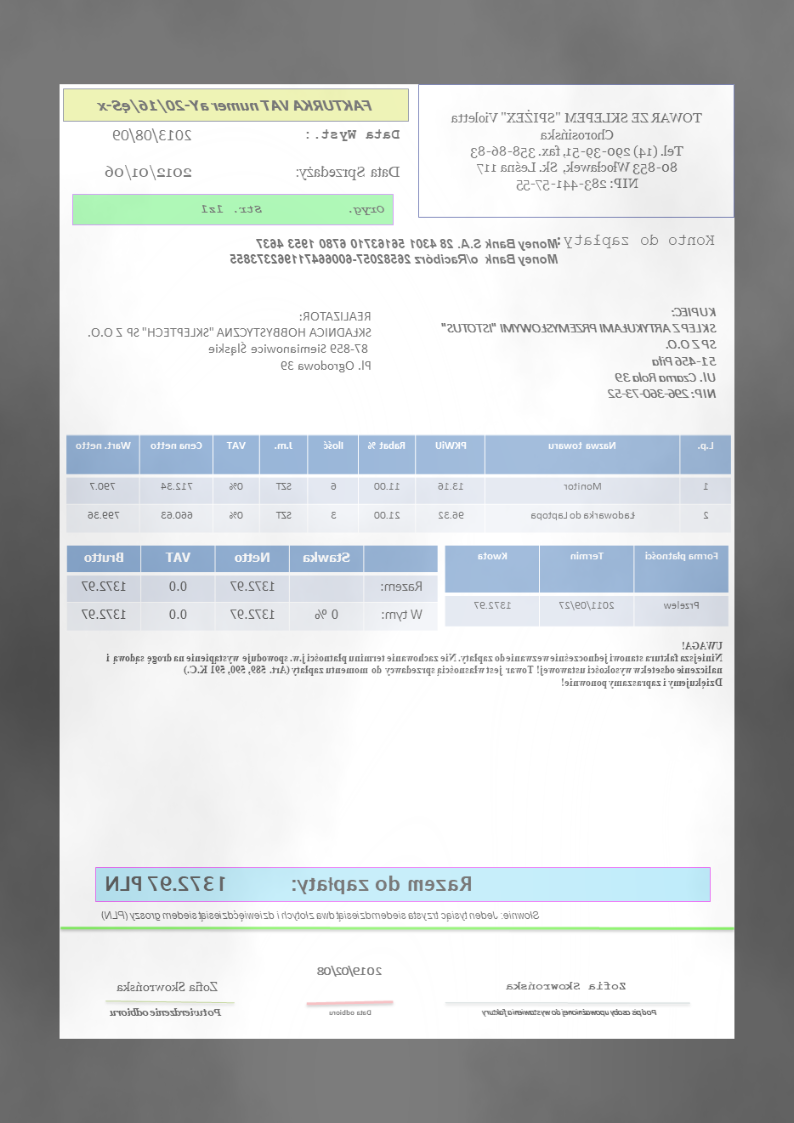Table: (64, 432, 733, 534), (65, 543, 440, 633), (443, 543, 730, 628)
TextBox: (101, 635, 727, 691), (438, 304, 720, 405), (446, 106, 709, 196), (85, 306, 377, 376), (104, 867, 477, 899), (227, 236, 563, 267), (99, 906, 543, 923), (91, 93, 375, 115), (197, 197, 388, 218), (556, 231, 719, 251), (479, 1006, 660, 1018), (303, 123, 405, 144), (295, 162, 405, 181), (109, 123, 195, 145), (503, 978, 629, 993), (103, 161, 196, 181), (111, 978, 220, 995), (107, 1006, 225, 1018), (314, 961, 385, 978), (326, 1005, 375, 1021)
